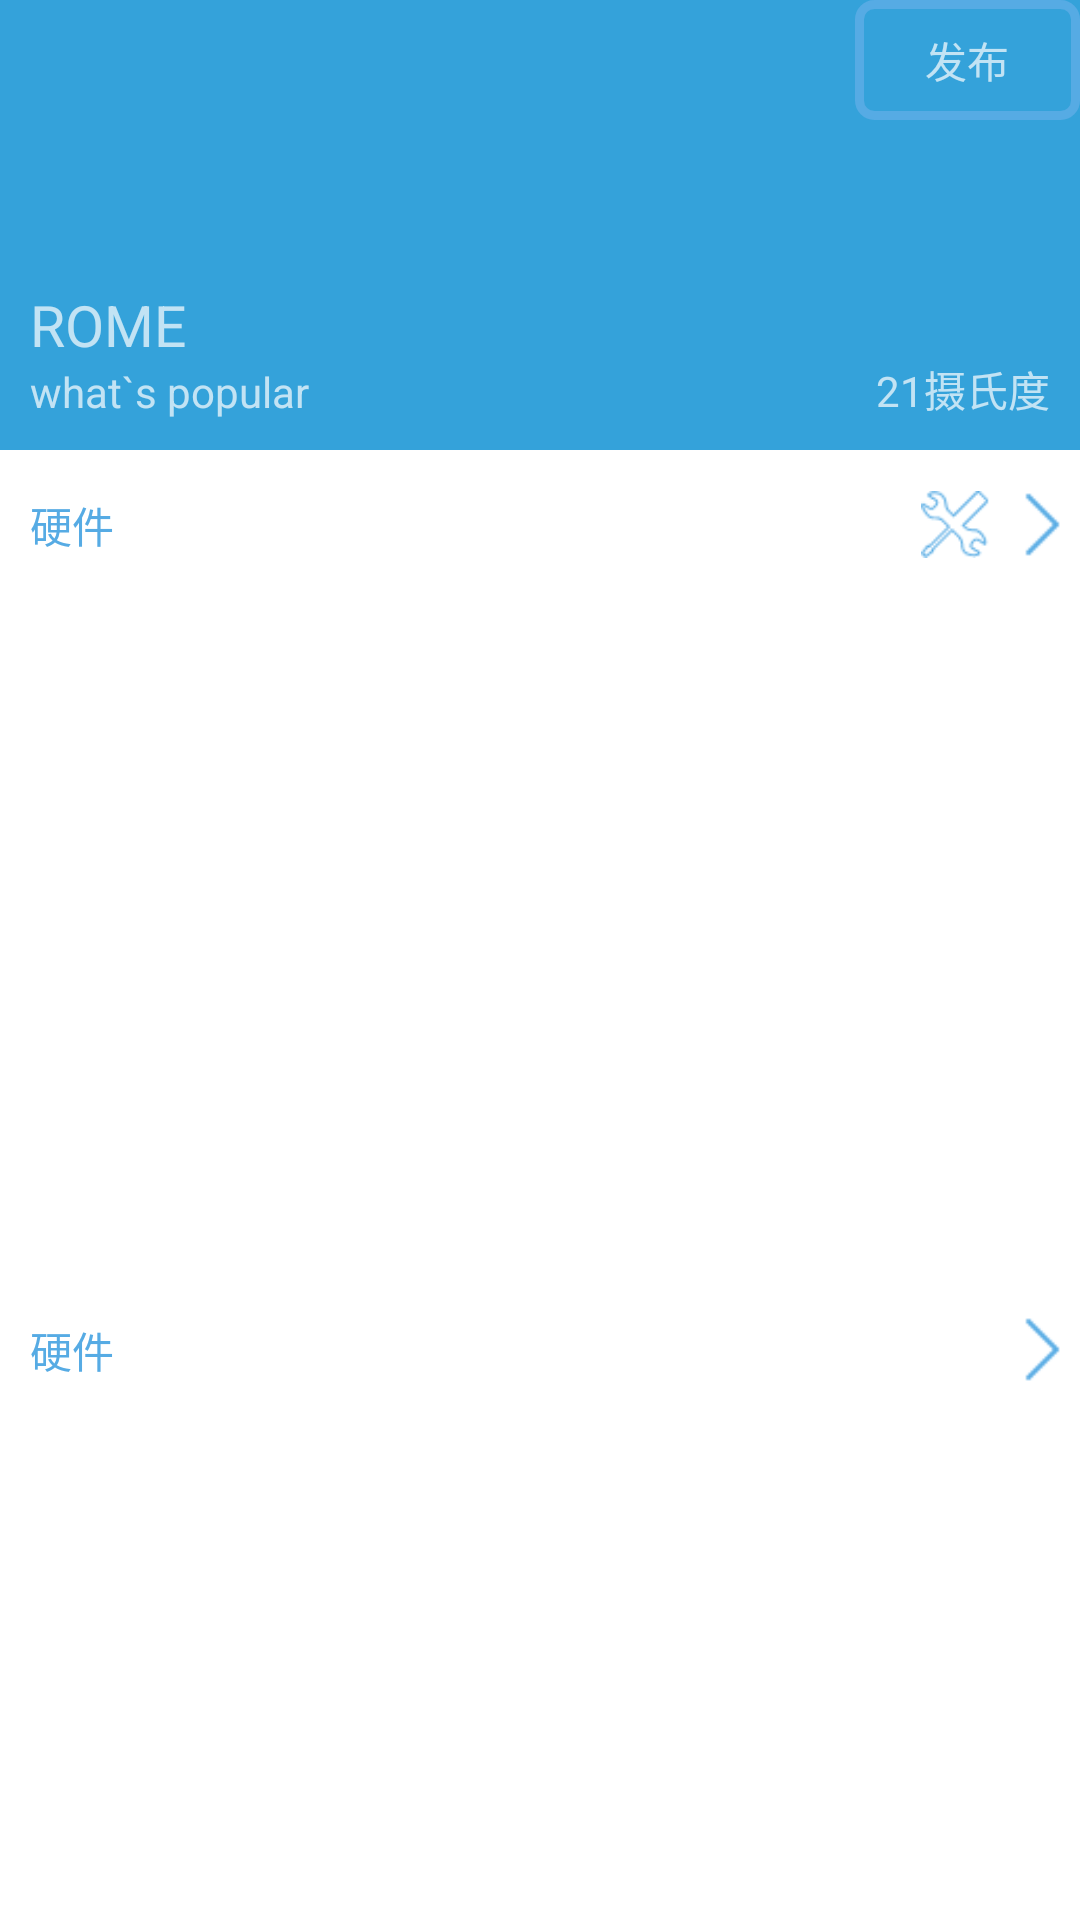

Locate icon controls on the screen. Image size 1080*1920, boxes as (x1, y1, x2, y2).
hardware: (921, 491, 989, 558)
right: (1025, 493, 1060, 556), (1025, 1318, 1060, 1381)
